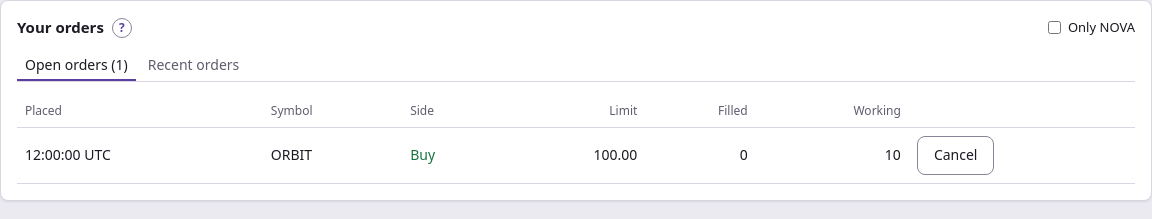
Scenario: OwnOrders › says so when the open orders of the instrument on screen are none
The image size is (1152, 219).
Click the checkbox labelled "Only NOVA". click: [1054, 28]
box: x1=1048 y1=21 x2=1061 y2=34
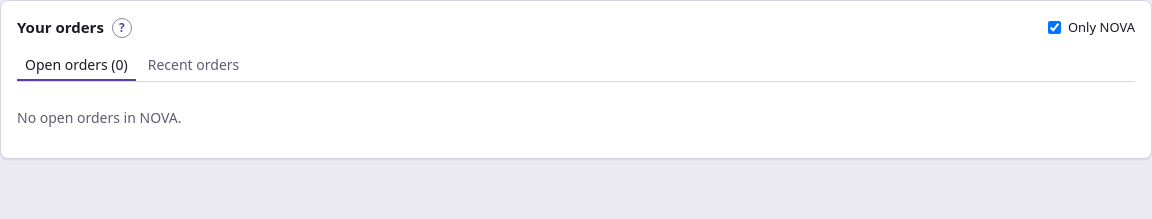
Now the text "No open orders in NOVA." is shown, box x1=17 y1=108 x2=182 y2=127
